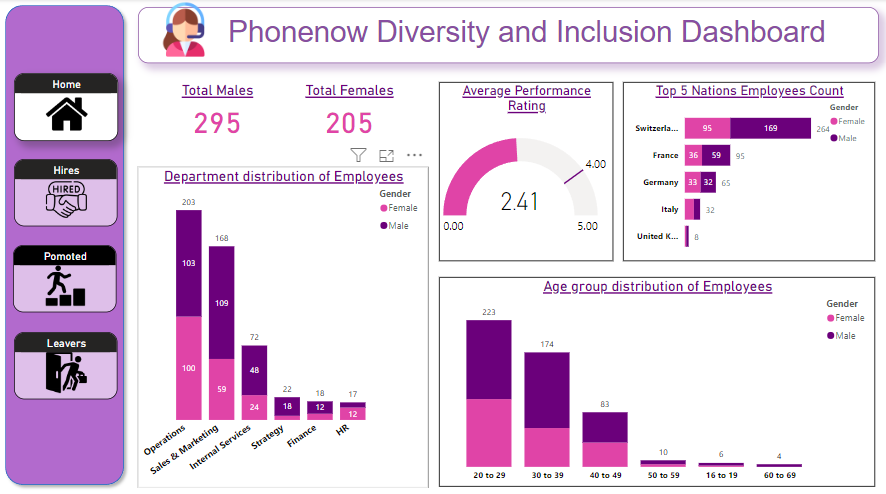

The dashboard page shown, as its layout file describes it:
{"tool":"powerbi","page":{"name":"Page 1","canvas":[1280,720],"ordinal":0},"visuals":[{"type":"textbox","box":[200.2,11.5,1067,80.6],"z":0},{"type":"shape","box":[0,0,188.6,708.5],"z":1000},{"type":"image","title":"Home","box":[21.6,106.6,149.8,97.9],"z":2000},{"type":"image","title":"Hires","box":[21.6,230.4,149,97],"z":3000},{"type":"image","title":"Pomoted","box":[20.2,354.2,149,97],"z":4000},{"type":"image","title":"Leavers","box":[21.6,479.5,149,97],"z":5000},{"type":"columnChart","title":"Department distribution of Employees","fields":{"Category":["Pharma Group AG.Department @01.07.2020"],"Y":["CountNonNull(Pharma Group AG.Employee ID)"],"Series":["Pharma Group AG.Gender"]},"box":[200.2,241.9,417.6,462.2],"z":6000},{"type":"columnChart","title":"Age group distribution of Employees","fields":{"Category":["Pharma Group AG.Age group"],"Y":["CountNonNull(Pharma Group AG.Employee ID)"],"Series":["Pharma Group AG.Gender"]},"box":[633.6,400.3,627.8,302.4],"z":7000},{"type":"barChart","title":"Top 5 Nations Employees Count","fields":{"Category":["Pharma Group AG.Nationality 1"],"Y":["CountNonNull(Pharma Group AG.Employee ID)"],"Series":["Pharma Group AG.Gender"]},"box":[898.6,119.5,362.9,257.8],"z":8000},{"type":"gauge","title":"Average Performance Rating","fields":{"Y":["Avg(Pharma Group AG.FY20 Performance Rating)"]},"box":[633.6,119.5,250.6,257.8],"z":9000},{"type":"card","title":"Total Males","fields":{"Values":["Pharma Group AG.# of men"]},"box":[243.4,119.5,142.6,85],"z":10000},{"type":"card","title":"Total Females","fields":{"Values":["Pharma Group AG.# of women"]},"box":[433.4,119.5,142.6,85],"z":11000},{"type":"image","box":[200.2,0,132.5,87.8],"z":12000}]}

Visuals, with their boxes in screenshot pixels (x1, y1, x2, y2), scaled from the page's 1280x720 canvas onto the 886x494 screenshot:
textbox: rect(139, 8, 877, 63)
shape: rect(0, 0, 131, 486)
"Home" image: rect(15, 73, 119, 140)
"Hires" image: rect(15, 158, 118, 225)
"Pomoted" image: rect(14, 243, 117, 310)
"Leavers" image: rect(15, 329, 118, 396)
"Department distribution of Employees" columnChart: rect(139, 166, 428, 483)
"Age group distribution of Employees" columnChart: rect(439, 275, 873, 482)
"Top 5 Nations Employees Count" barChart: rect(622, 82, 873, 259)
"Average Performance Rating" gauge: rect(439, 82, 612, 259)
"Total Males" card: rect(168, 82, 267, 140)
"Total Females" card: rect(300, 82, 399, 140)
image: rect(139, 0, 230, 60)
